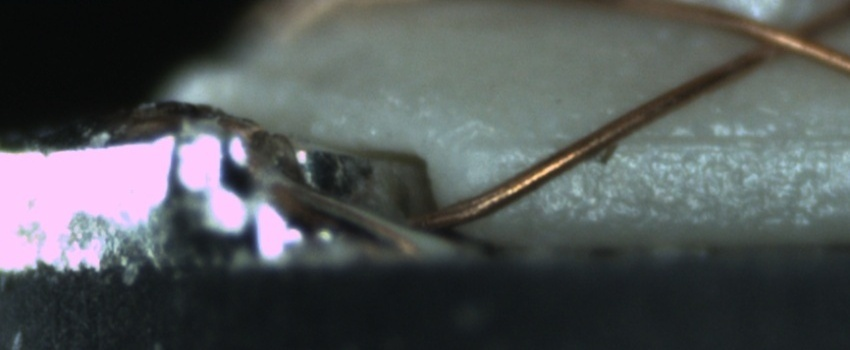CL: (742, 6, 839, 68)
DL: (506, 112, 849, 177)
